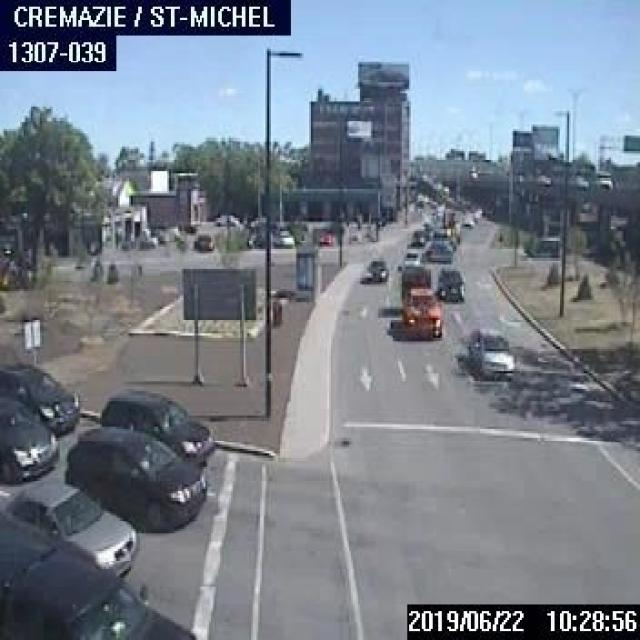vehicle: (0, 529, 195, 638), (63, 424, 206, 528), (0, 475, 136, 575), (98, 388, 213, 464), (0, 361, 76, 434), (0, 396, 58, 482), (464, 324, 514, 378), (400, 285, 440, 338), (400, 263, 430, 299), (436, 264, 464, 301), (523, 234, 563, 259), (426, 227, 451, 259), (363, 254, 387, 282), (402, 247, 421, 267), (273, 228, 293, 246), (192, 230, 212, 248), (593, 169, 610, 187), (213, 212, 236, 225), (408, 228, 424, 244)
